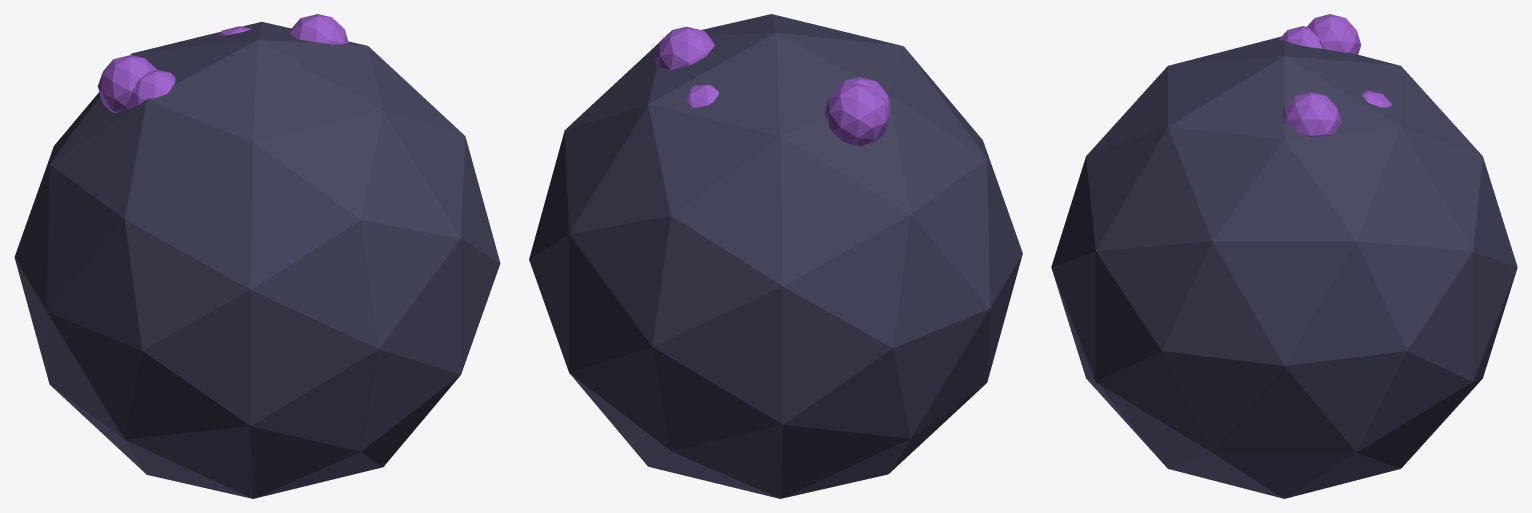
Rendered from final_horror.glb.
3 views of the same model, side by side, from view 1: azimuth 30°, elevation 25°; view 2: azimuth 150°, elevation 25°; view 3: azimuth 270°, elevation 25° (orthographic). The views are drawn at different scales.
Parts seen in each view (by area): view 1: geometry_0; view 2: geometry_0; view 3: geometry_0.
Part boxes in pixels (x1,y1,x2,y2): geometry_0: [14, 14, 500, 498]; geometry_0: [529, 14, 1022, 498]; geometry_0: [1051, 14, 1517, 498].
Bounding box in the file's own units: 0.9 × 0.9 × 0.9.
